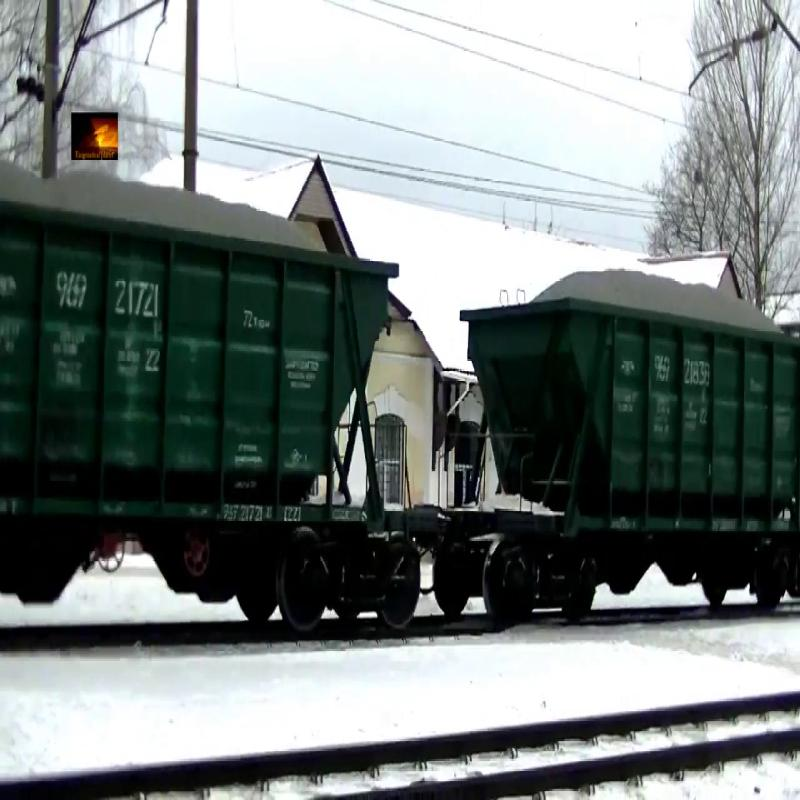train: (1, 171, 401, 630), (454, 259, 800, 619)
